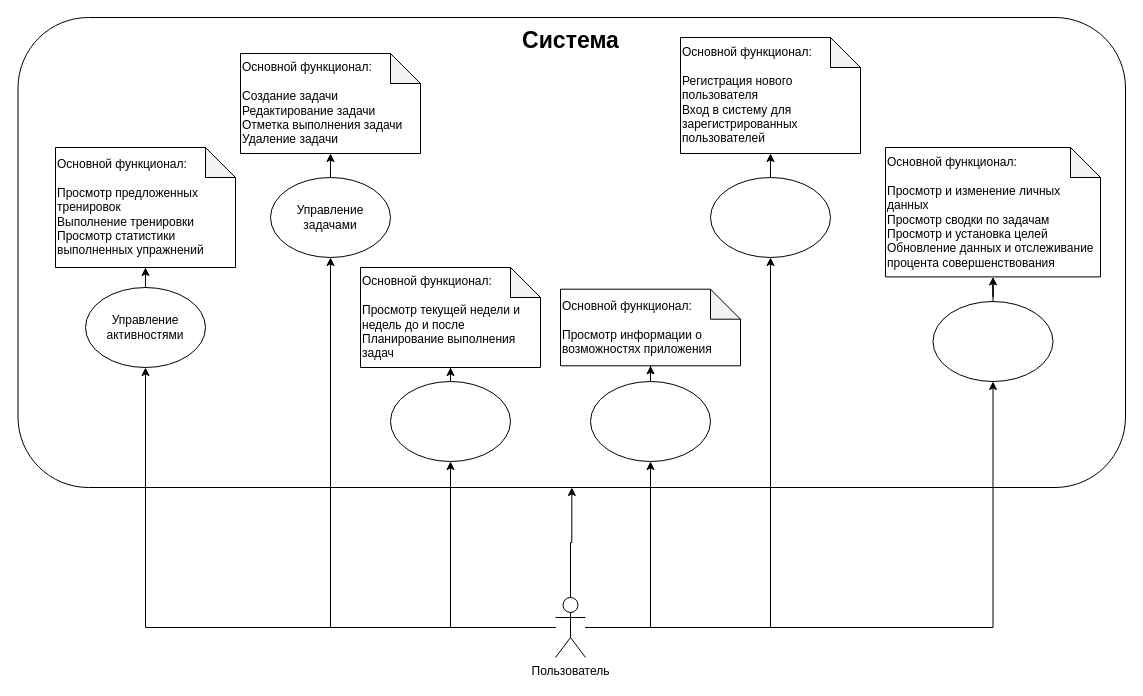
The diagram is 1143 pixels wide and 696 high, and some of its shapes have lost their labels. Here are the shapes that lost their labels. From the top down, the box of each, then its label:
(710, 176, 830, 258): Аутентификация
(932, 300, 1053, 382): Профиль
(390, 380, 510, 462): Планирование
(590, 380, 710, 462): Онбординг
